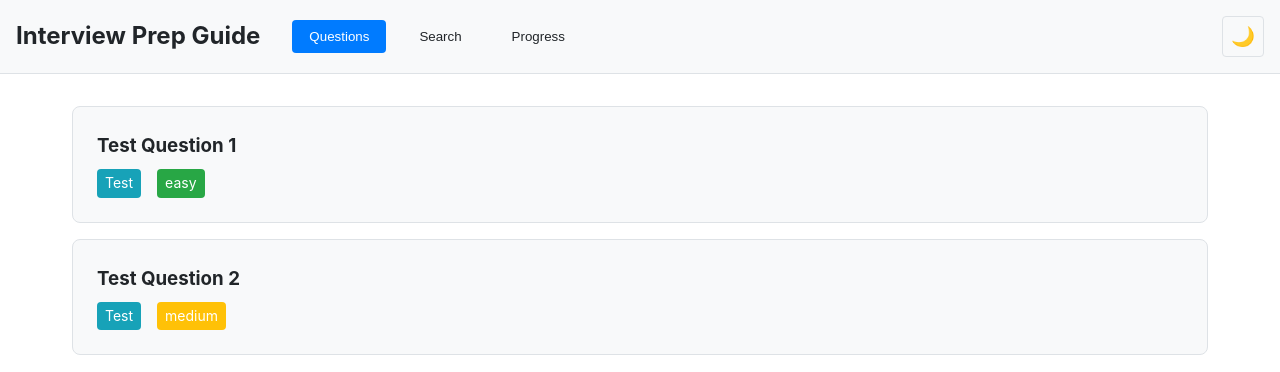
Scenario: App › search functionality › should show no results message
This screenshot has width=1280, height=372.
Click the button "Search" at [440, 36], box top-left (402, 20), bottom-right (479, 53)
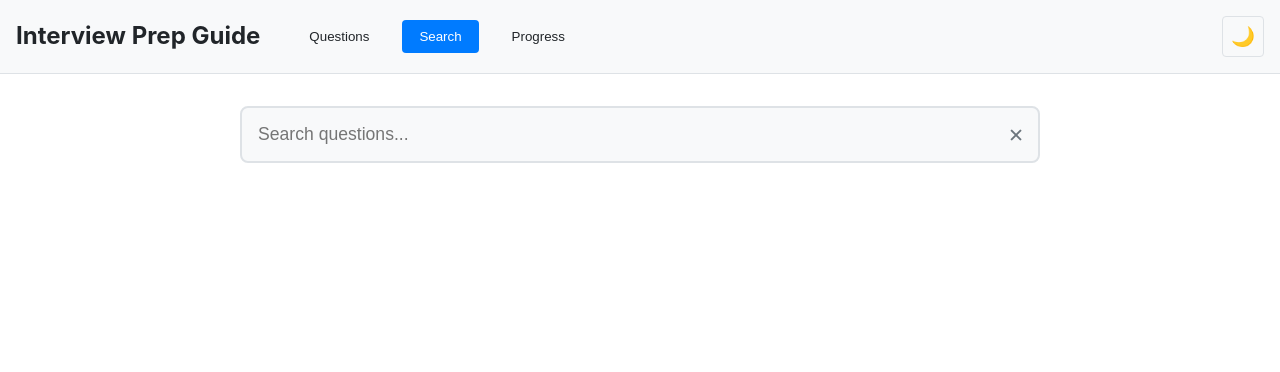
Type "test" into the search field with class "search-input" at [640, 134], box top-left (240, 106), bottom-right (1040, 163)
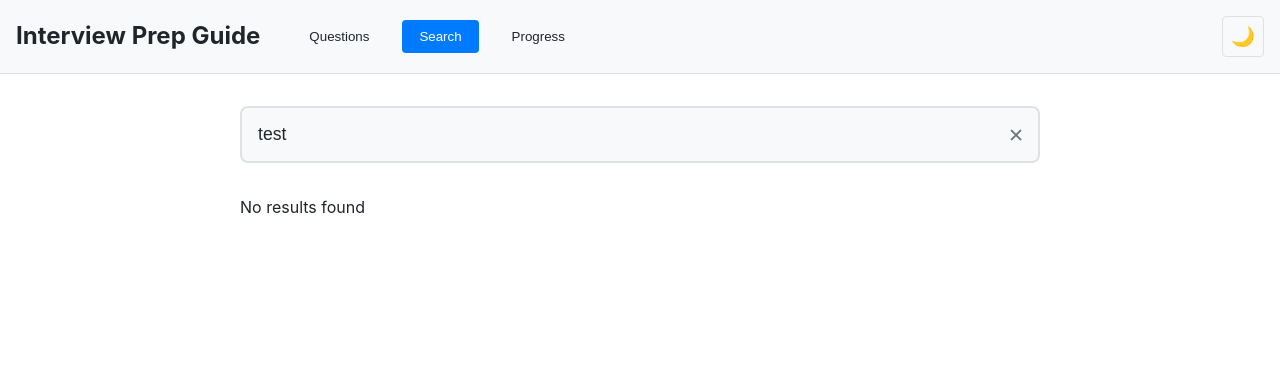
Expected: the element that starts with "Interview Prep Guide" shows "No results found", top-left (240, 197), bottom-right (365, 217)
